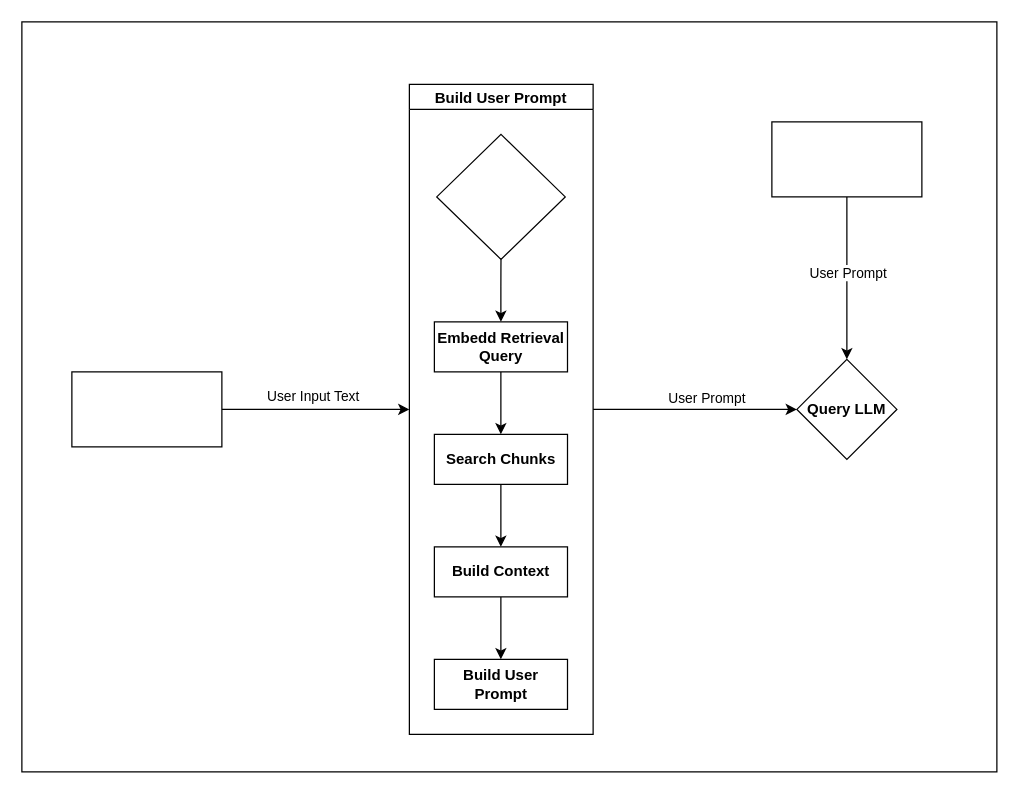
The diagram is 1019 pixels wide and 794 high, and some of its shapes have lost their labels. The shapes that lost their labels are listed below. From the top down, each one's centre as x and y in pixels, then its label:
the point at 846,159: Get System Prompt
the point at 500,196: Build Retrieval Query
the point at 146,409: Start Chat
